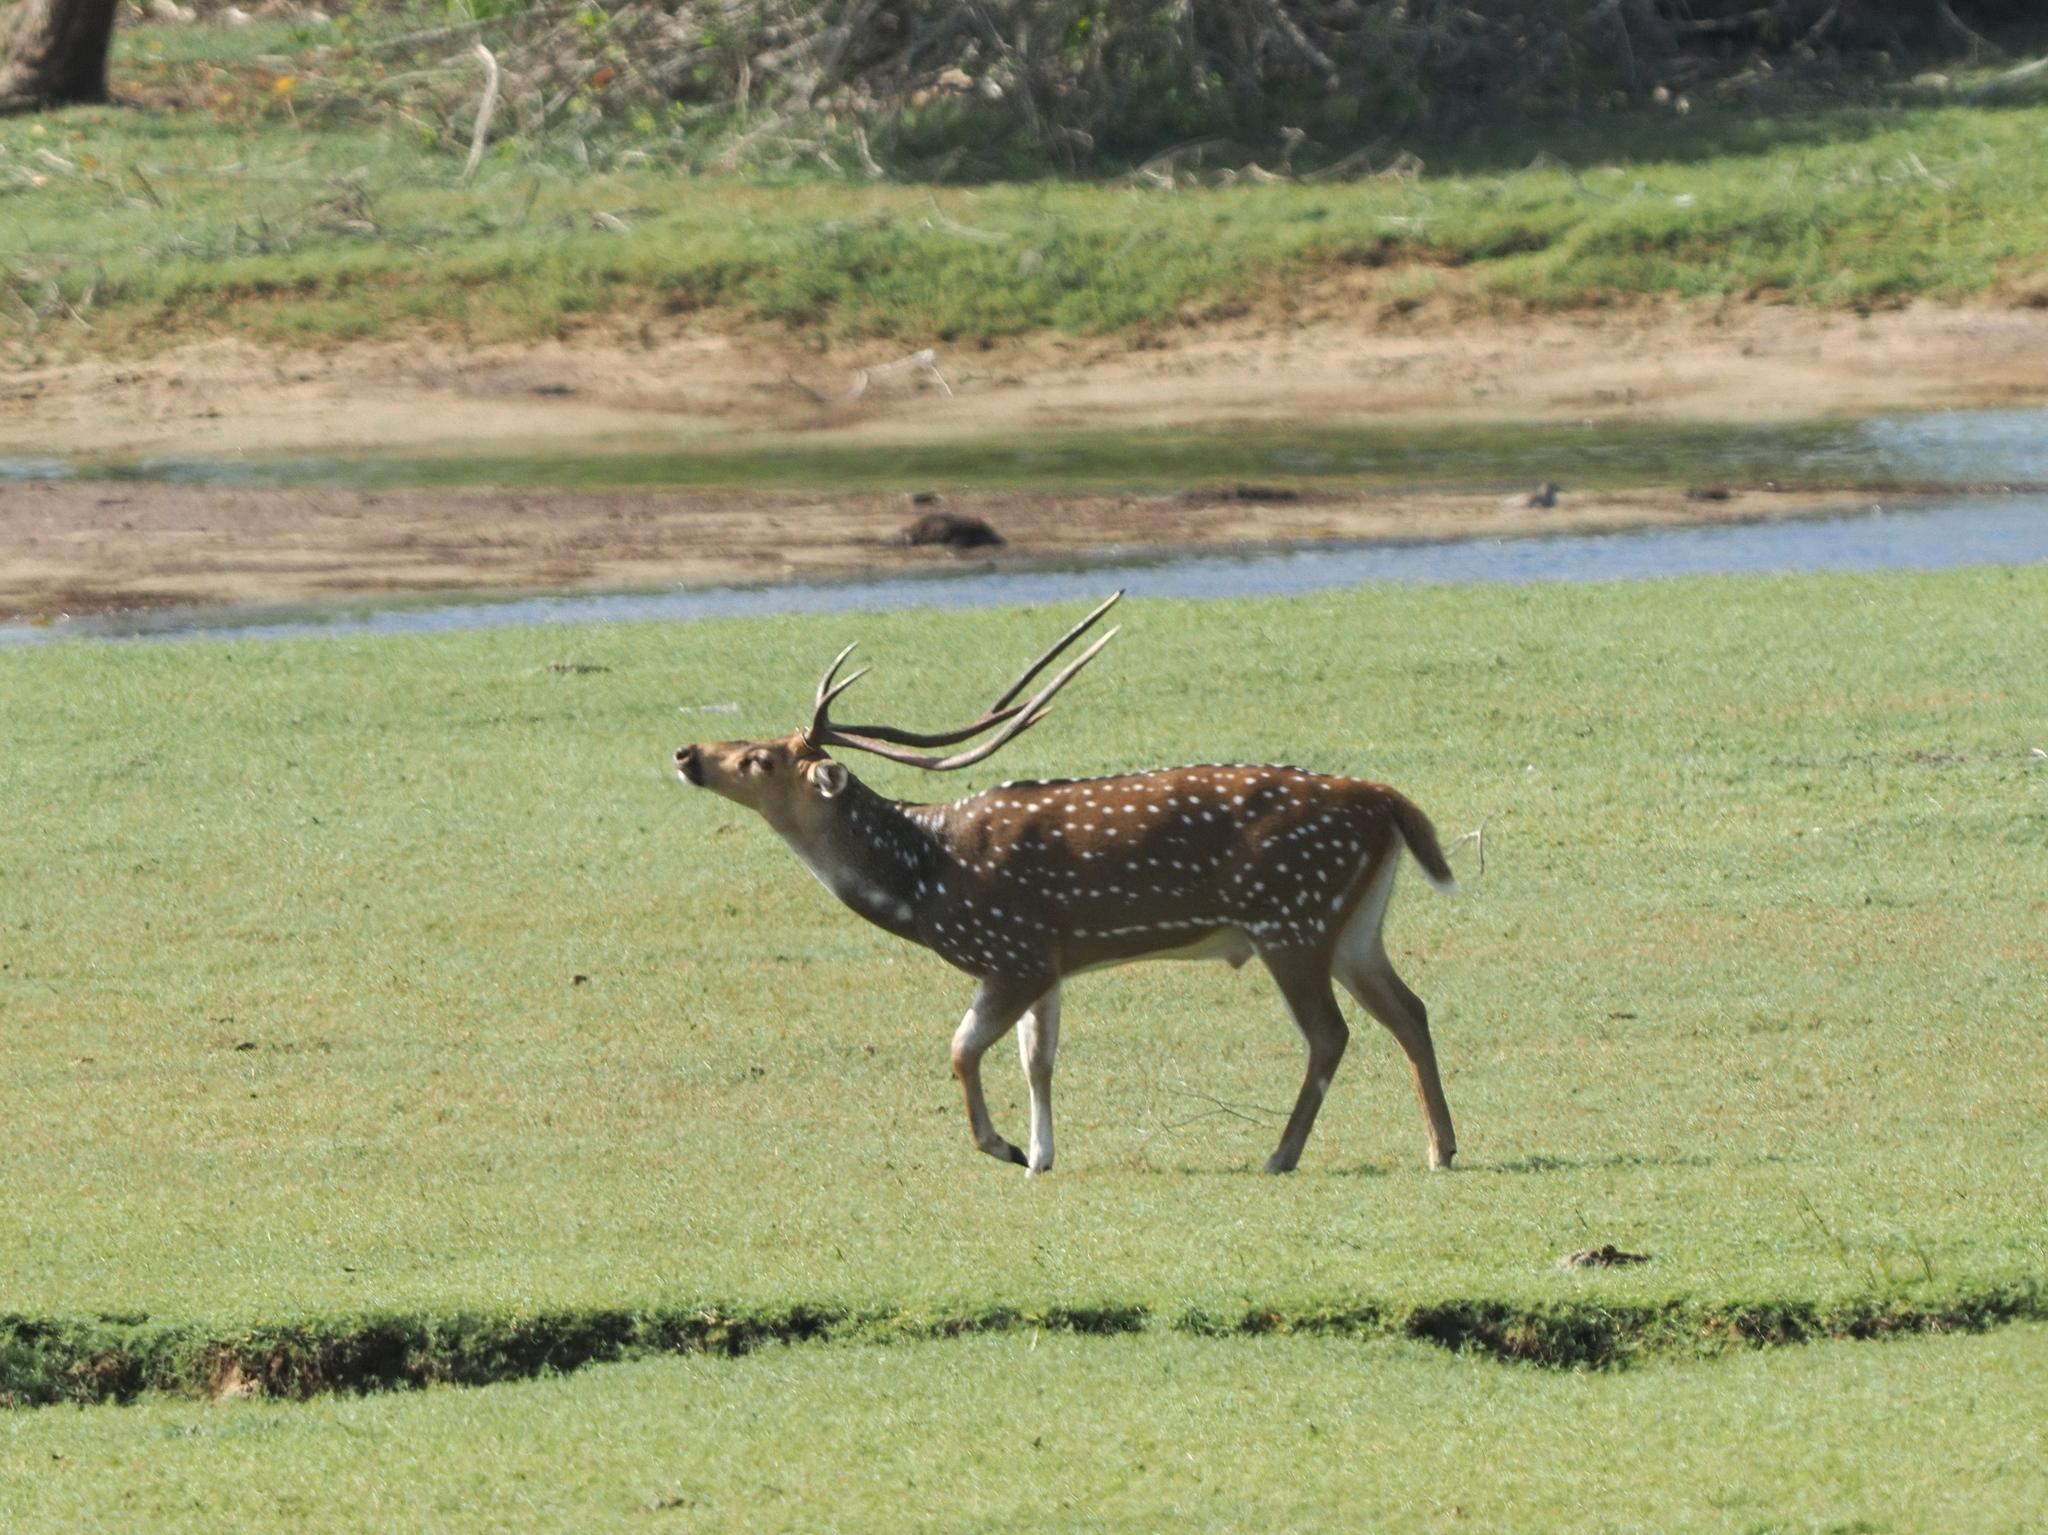Deer: (676, 593, 1455, 1172), (1058, 872, 1076, 890)
